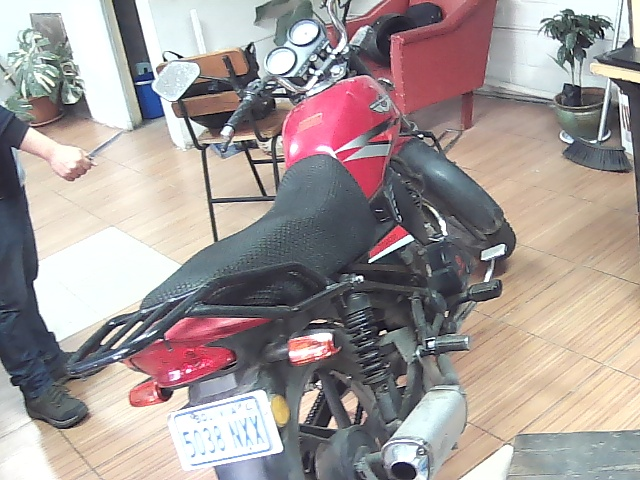cuchillo: (51, 121, 134, 189)
